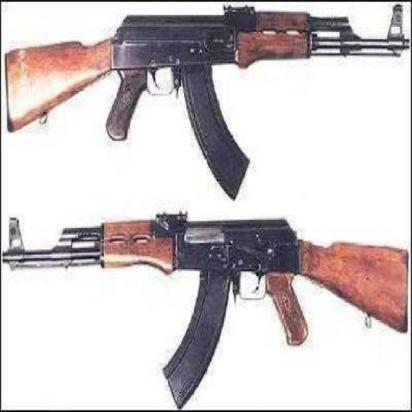Gun: (3, 182, 411, 412), (7, 2, 410, 174)
